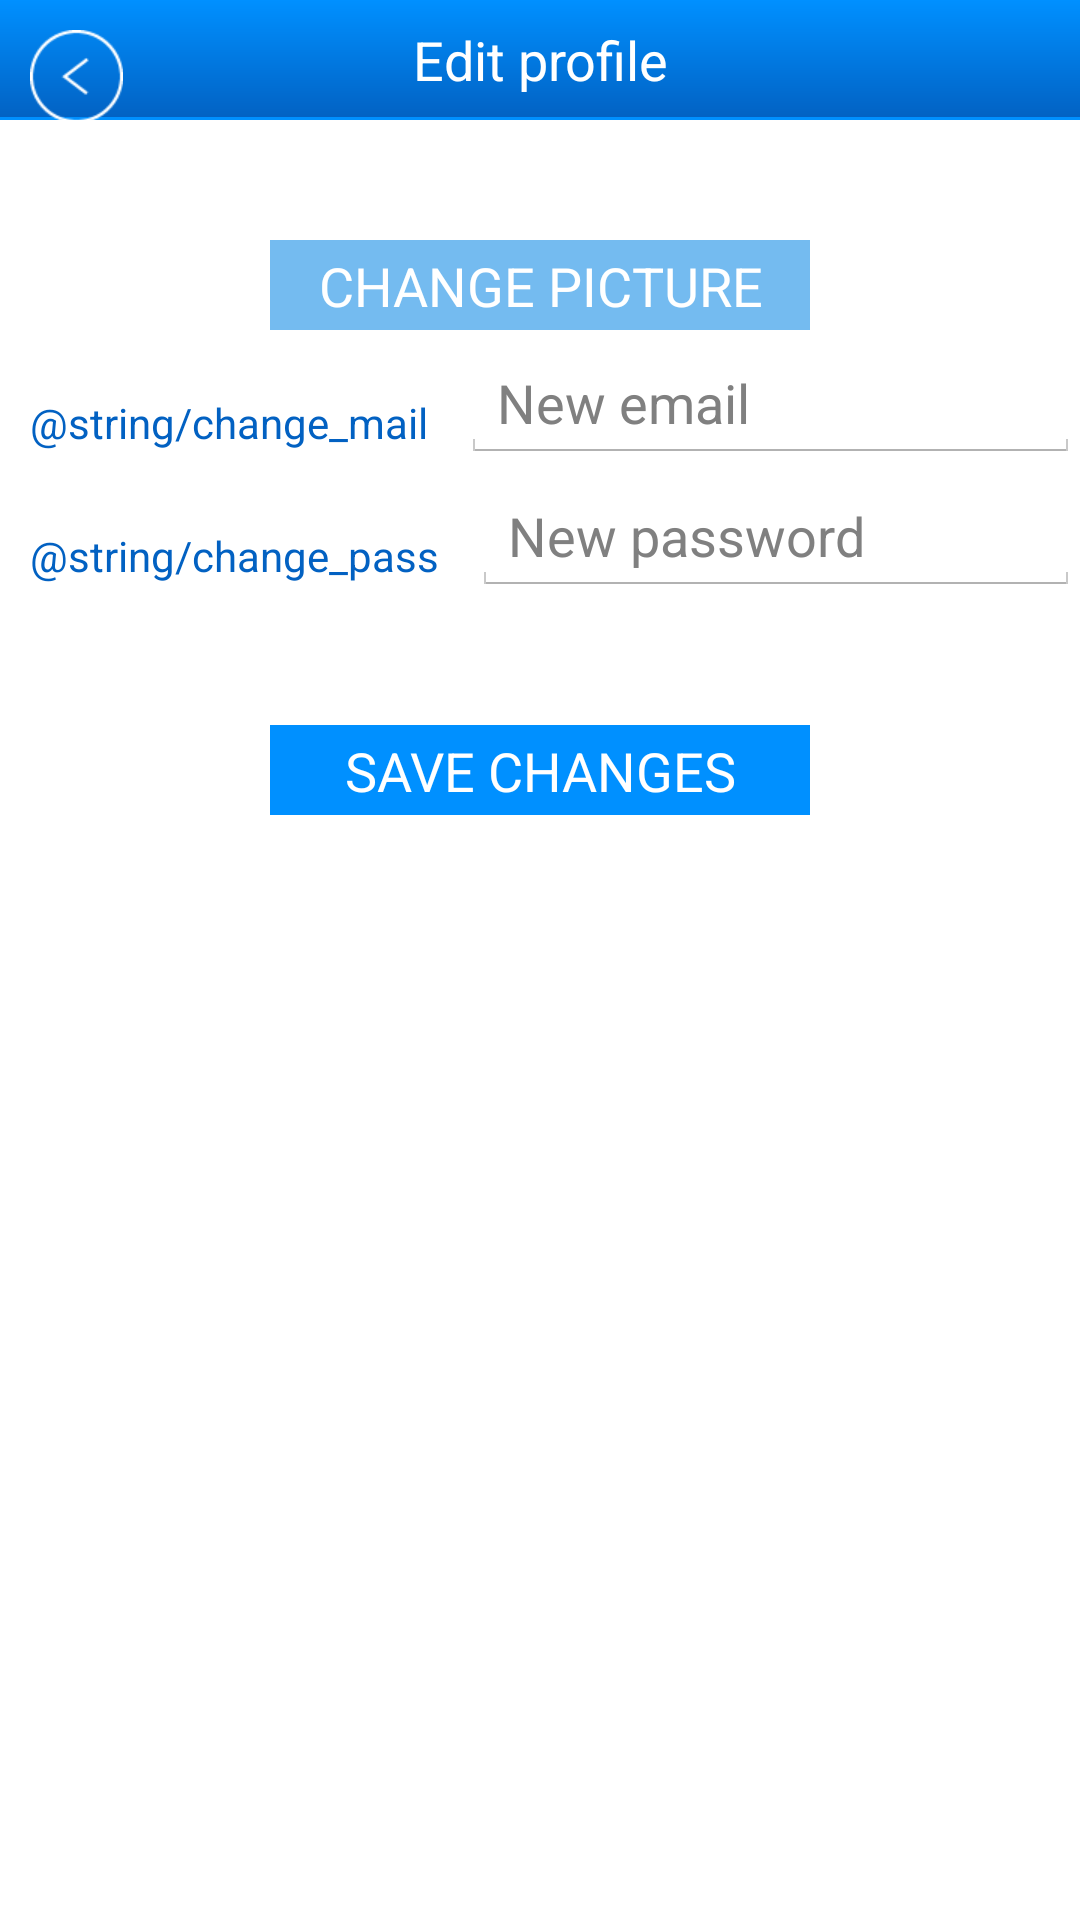

Screen size 1080px×1920px. Icon name, then its center in pixels as [x,y]:
back: [76,76]
